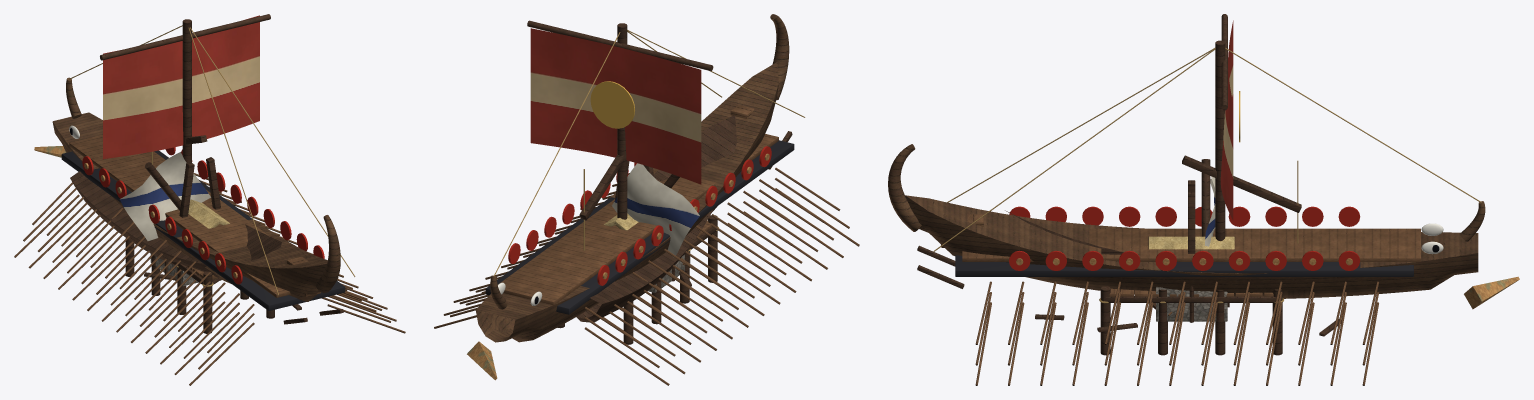
Rendered from Port.glb.
3 renders of one model, left to right at view 1: azimuth 30°, elevation 25°; view 2: azimuth 150°, elevation 25°; view 3: azimuth 270°, elevation 25°, orthographic. The views are drawn at different scales.
Visible parts, largest first — view 1: trirema__sail_red, trirema__wood, trirema__wood_ship, wrak_statku__wood_dark, wrak_statku__sail_white, trirema__shield(170, 40, 30), trirema__hull_paint, trirema__wood_dark, pomost__wood_dark, dzwig_portowy__wood_dark, trirema__rope, chata_rybacka__straw (+1 smaller); view 2: trirema__sail_red, trirema__wood, trirema__wood_ship, wrak_statku__wood_dark, wrak_statku__sail_white, trirema__hull_paint, trirema__shield(170, 40, 30), trirema__wood_dark, trirema__gold, pomost__wood_dark, trirema__bronze, dzwig_portowy__wood_dark (+1 smaller); view 3: trirema__wood_ship, trirema__wood, trirema__shield(170, 40, 30), trirema__hull_paint, pomost__wood_dark, trirema__wood_dark, dzwig_portowy__wood_dark, trirema__sail_red, trirema__rope, wrak_statku__wood_dark, trirema__bronze, chata_rybacka__wall_rubble (+2 smaller).
Boxes of the visible parts, x1=… form: trirema__sail_red: x1=103, y1=15, x2=259, y2=159; trirema__wood: x1=14, y1=135, x2=405, y2=385; trirema__wood_ship: x1=52, y1=77, x2=340, y2=301; wrak_statku__wood_dark: x1=70, y1=162, x2=301, y2=310; wrak_statku__sail_white: x1=120, y1=152, x2=210, y2=240; trirema__shield(170, 40, 30): x1=82, y1=147, x2=324, y2=284; trirema__hull_paint: x1=61, y1=150, x2=345, y2=310; trirema__wood_dark: x1=100, y1=14, x2=343, y2=324; pomost__wood_dark: x1=125, y1=238, x2=274, y2=333; dzwig_portowy__wood_dark: x1=179, y1=135, x2=221, y2=217; trirema__rope: x1=69, y1=25, x2=355, y2=295; chata_rybacka__straw: x1=188, y1=199, x2=229, y2=228; trirema__sail_red: x1=530, y1=28, x2=701, y2=184; trirema__wood: x1=434, y1=105, x2=859, y2=385; trirema__wood_ship: x1=475, y1=14, x2=789, y2=342; wrak_statku__wood_dark: x1=574, y1=115, x2=736, y2=322; wrak_statku__sail_white: x1=612, y1=163, x2=699, y2=257; trirema__hull_paint: x1=485, y1=140, x2=794, y2=314; trirema__shield(170, 40, 30): x1=508, y1=146, x2=771, y2=285; trirema__wood_dark: x1=527, y1=20, x2=792, y2=219; trirema__gold: x1=590, y1=81, x2=634, y2=128; pomost__wood_dark: x1=557, y1=215, x2=717, y2=344; trirema__bronze: x1=467, y1=153, x2=769, y2=380; dzwig_portowy__wood_dark: x1=579, y1=154, x2=653, y2=220; trirema__wood_ship: x1=888, y1=144, x2=1485, y2=298; trirema__wood: x1=941, y1=214, x2=1420, y2=385; trirema__shield(170, 40, 30): x1=1009, y1=206, x2=1360, y2=270; trirema__hull_paint: x1=955, y1=255, x2=1413, y2=276; pomost__wood_dark: x1=1100, y1=286, x2=1282, y2=355; trirema__wood_dark: x1=917, y1=14, x2=1227, y2=288; dzwig_portowy__wood_dark: x1=1182, y1=155, x2=1301, y2=253; trirema__sail_red: x1=1220, y1=20, x2=1233, y2=220; trirema__rope: x1=933, y1=48, x2=1481, y2=251; wrak_statku__wood_dark: x1=1005, y1=159, x2=1341, y2=336; trirema__bronze: x1=1016, y1=258, x2=1519, y2=309; chata_rybacka__wall_rubble: x1=1156, y1=287, x2=1227, y2=321.
Size of the model in its own units: 19.28 by 22.6 by 44.08.
Materials: 30 (12 with a texture image).
